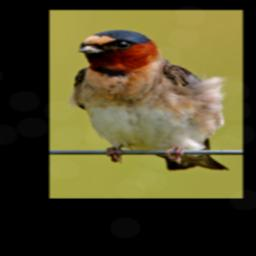Swallow: (67, 29, 229, 172)
